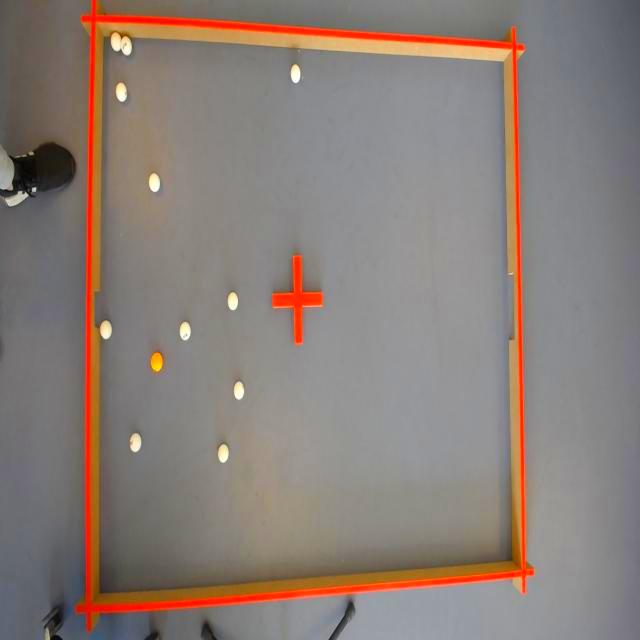orange-golf-balls: (150, 351, 162, 371)
white-golf-balls: (120, 34, 132, 54), (148, 172, 160, 191), (115, 81, 127, 100), (99, 320, 111, 339), (129, 433, 141, 452), (217, 444, 229, 463), (110, 30, 121, 50), (233, 380, 244, 399), (179, 321, 190, 340), (227, 292, 238, 310), (291, 62, 301, 81)
